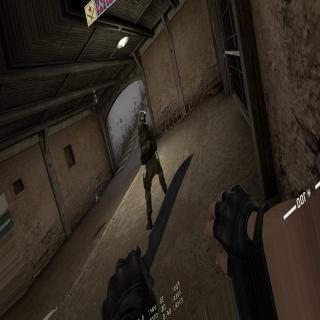CT-Body: (130, 106, 169, 230)
CT-Head: (135, 110, 147, 126)
